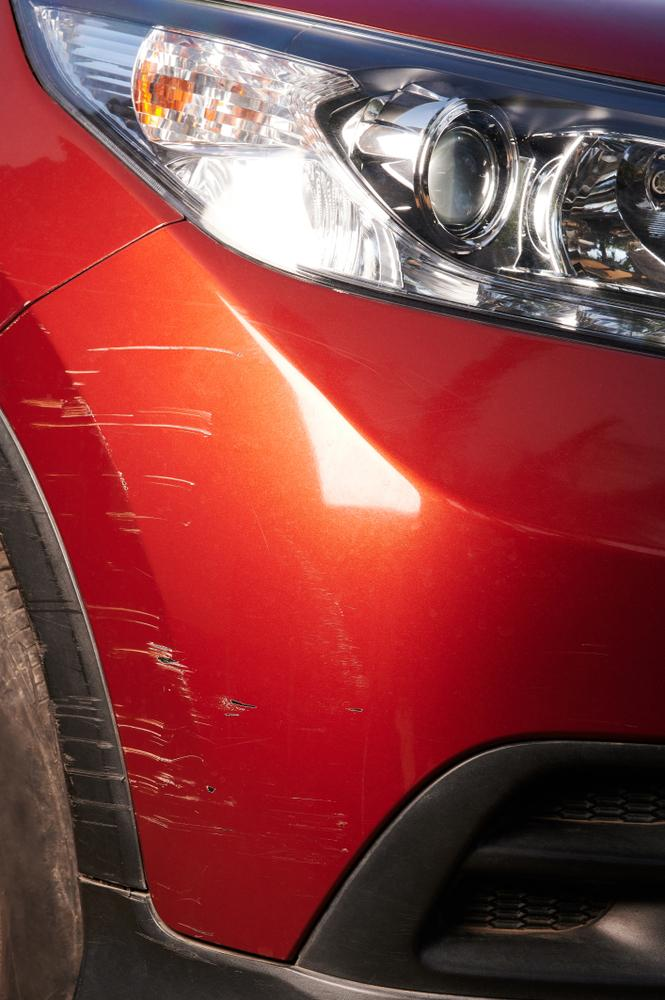scratch: (30, 331, 346, 865), (0, 451, 138, 831)
